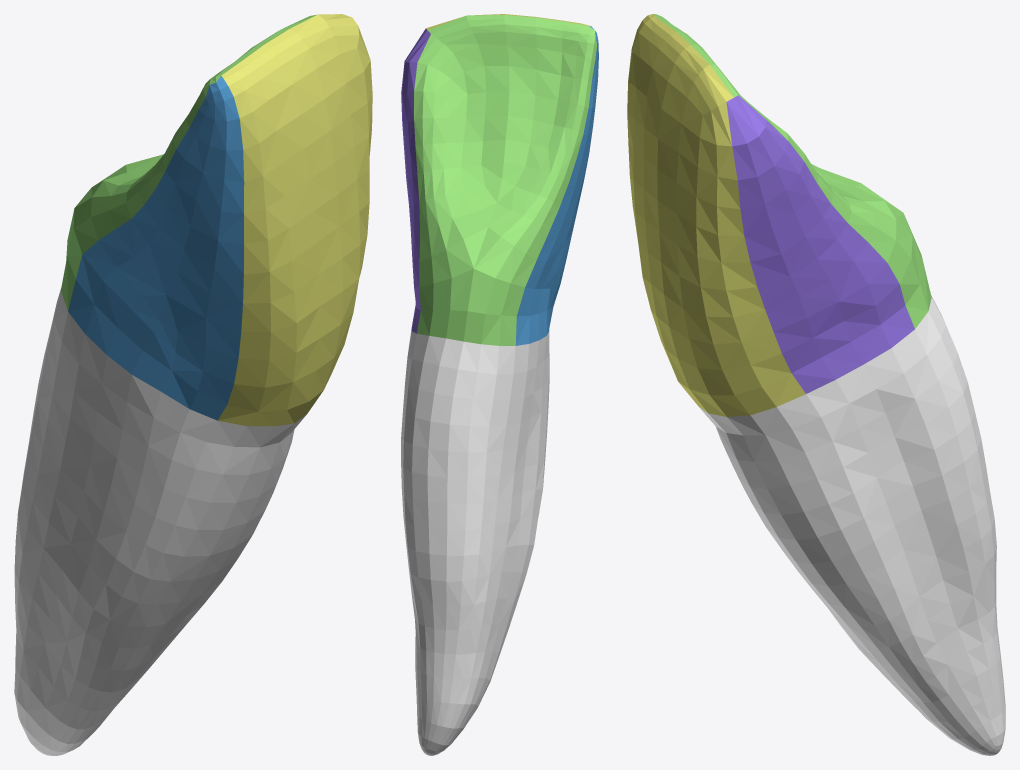
The model's file is tooth_32_annotated.glb.
3 renders of one model, left to right at view 1: azimuth 30°, elevation 25°; view 2: azimuth 150°, elevation 25°; view 3: azimuth 270°, elevation 25°, orthographic. The views are drawn at different scales.
Parts seen in each view (by area): view 1: FDI_32; view 2: FDI_32; view 3: FDI_32.
Boxes of the visible parts, x1,y1,x2,y2 form: FDI_32: (14,14,372,755); FDI_32: (401,14,598,755); FDI_32: (627,14,1005,755).
Bounding box in the file's own units: 0.00531 × 0.0185 × 0.00858.
